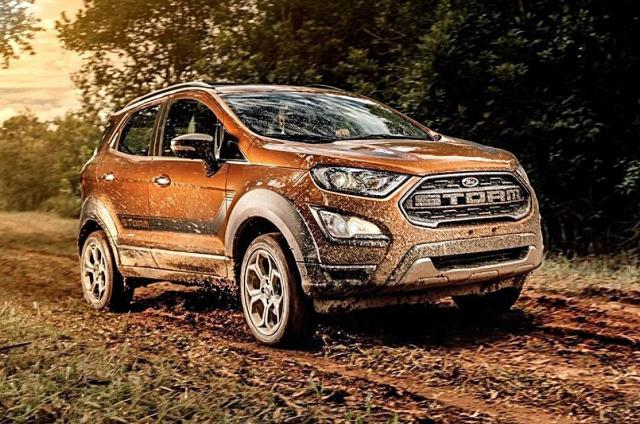ford: (76, 81, 544, 347)
